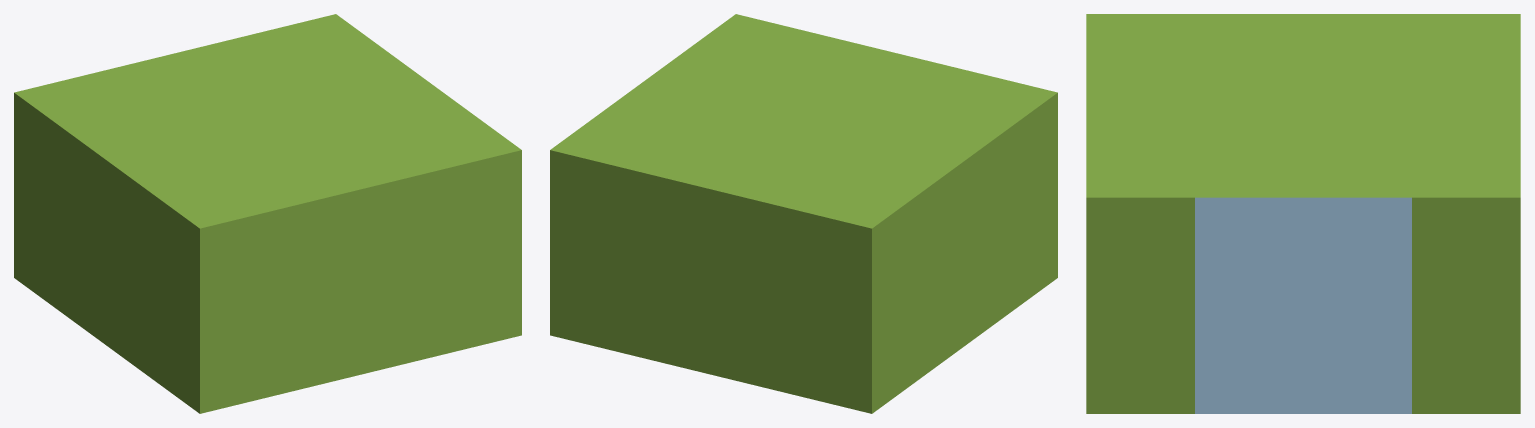
File: roadTile_169.fbx
3 views of the same model, side by side, from view 1: azimuth 30°, elevation 25°; view 2: azimuth 150°, elevation 25°; view 3: azimuth 270°, elevation 25° (orthographic). The views are drawn at different scales.
Parts seen in each view (by area): view 1: roadTile_169; view 2: roadTile_169; view 3: roadTile_169.
Boxes of the visible parts, <box> form: roadTile_169: <box>14,14,521,413</box>; roadTile_169: <box>550,14,1057,413</box>; roadTile_169: <box>1086,14,1520,413</box>.
Bounding box in the file's own units: 118 × 64.96 × 118.
